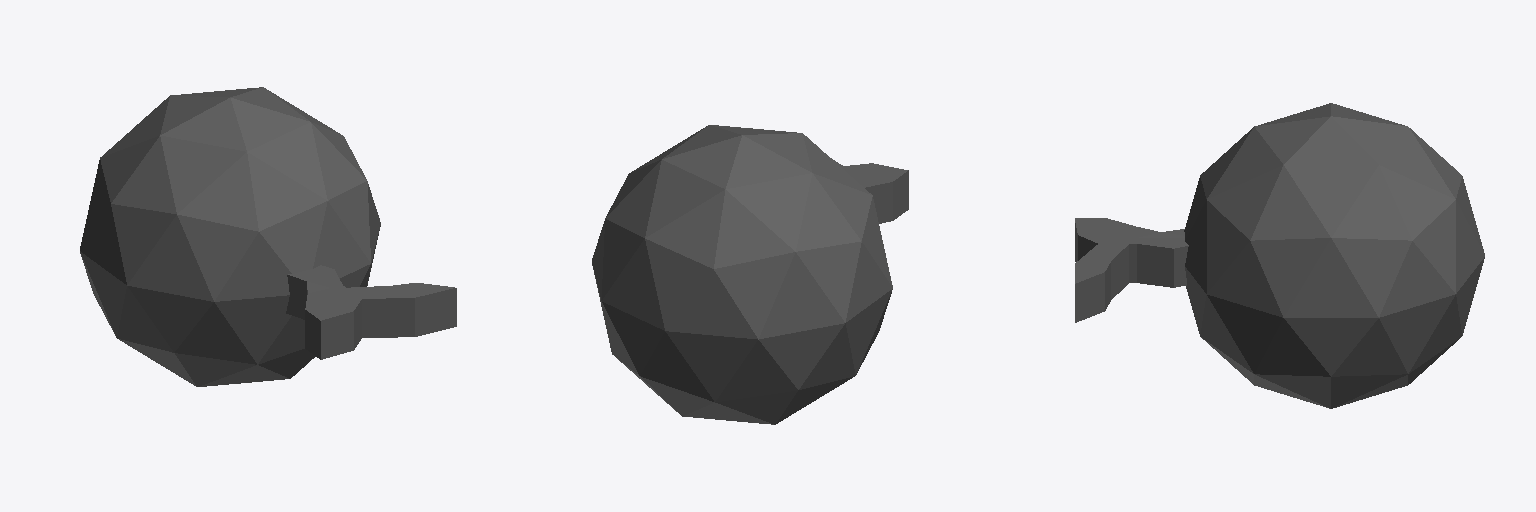
Rendered from fruit.obj.
The picture shows the model from 3 angles: view 1: azimuth 30°, elevation 25°; view 2: azimuth 150°, elevation 25°; view 3: azimuth 270°, elevation 25°; orthographic projection.
Visible parts, largest first — view 1: Mesh_Mesh_Mesh_Fruit_Spher; view 2: Mesh_Mesh_Mesh_Fruit_Spher; view 3: Mesh_Mesh_Mesh_Fruit_Spher.
Part boxes in pixels (x1,y1,x2,y2): Mesh_Mesh_Mesh_Fruit_Spher: (80, 87, 456, 386); Mesh_Mesh_Mesh_Fruit_Spher: (592, 125, 908, 424); Mesh_Mesh_Mesh_Fruit_Spher: (1075, 103, 1484, 408).
Size of the model in its own units: 1.9 by 2 by 2.67.